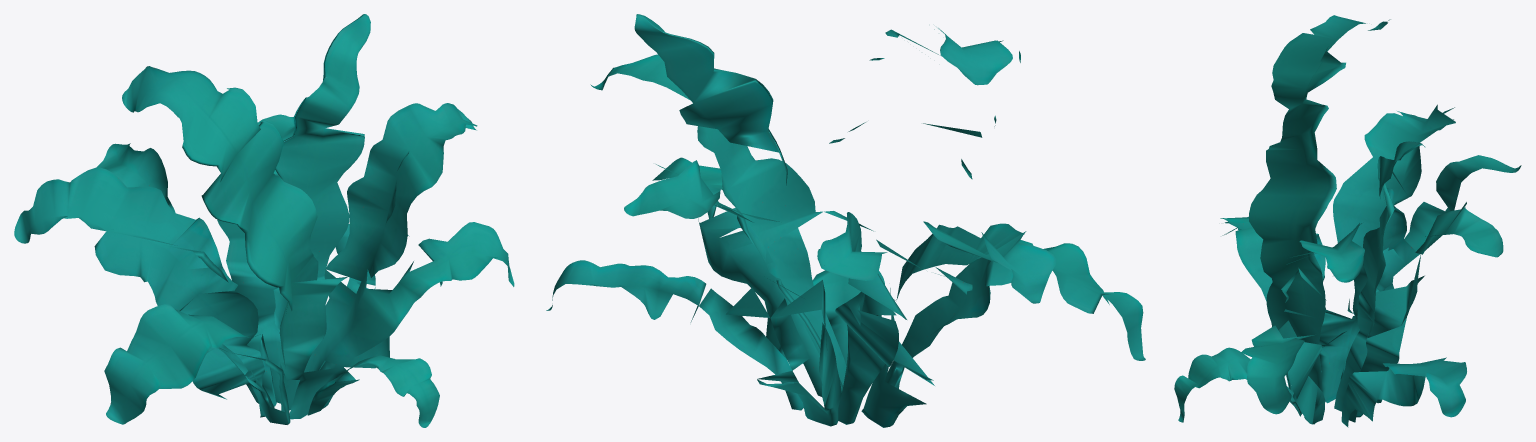
File: seaweed_fleshy.glb
3 views of the same model, side by side, from view 1: azimuth 30°, elevation 25°; view 2: azimuth 150°, elevation 25°; view 3: azimuth 270°, elevation 25° (orthographic). The views are drawn at different scales.
Visible parts, largest first — view 1: fb6d2f12_81db_4840_9129_bcad8eb80660; view 2: fb6d2f12_81db_4840_9129_bcad8eb80660; view 3: fb6d2f12_81db_4840_9129_bcad8eb80660.
Part boxes in pixels (<box>): fb6d2f12_81db_4840_9129_bcad8eb80660: <box>14,14,514,427</box>; fb6d2f12_81db_4840_9129_bcad8eb80660: <box>546,14,1145,427</box>; fb6d2f12_81db_4840_9129_bcad8eb80660: <box>1174,15,1521,427</box>.
Size of the model in its own units: 0.8996 by 0.7159 by 0.6535.
1 material, 1 textured.
